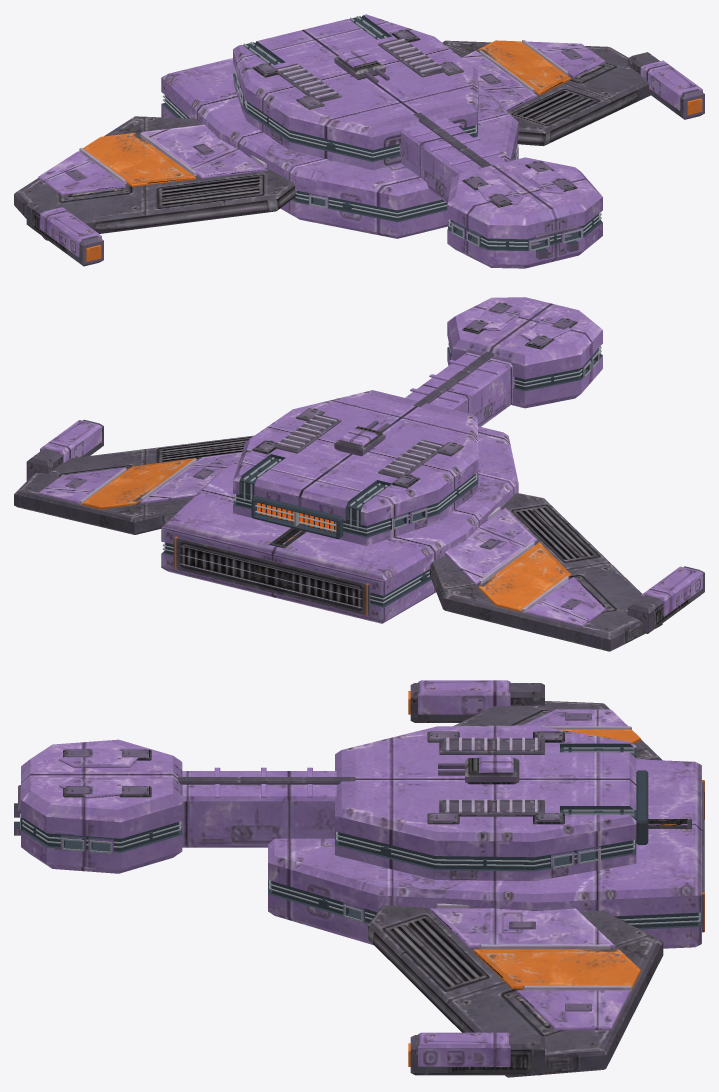
File: shrike.glb
3 renders of one model, top to bottom at view 1: azimuth 30°, elevation 25°; view 2: azimuth 150°, elevation 25°; view 3: azimuth 270°, elevation 25°, orthographic. The views are drawn at different scales.
Parts seen in each view (by area): view 1: shrike_revised_hull; view 2: shrike_revised_hull; view 3: shrike_revised_hull.
Part boxes in pixels (x1,y1,x2,y2): shrike_revised_hull: (14, 14, 704, 268); shrike_revised_hull: (14, 297, 704, 651); shrike_revised_hull: (14, 680, 704, 1077).
Size of the model in its own units: 60.71 by 10.62 by 48.42.
4 materials, 2 textured.
